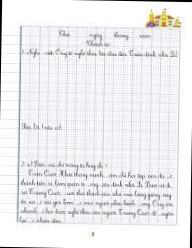text: (20, 46, 178, 62), (20, 204, 176, 220), (18, 176, 172, 191), (17, 187, 174, 201), (27, 167, 174, 181), (19, 198, 175, 211), (19, 158, 109, 172), (18, 215, 62, 224), (20, 121, 63, 130), (112, 30, 130, 42), (85, 39, 110, 47), (88, 32, 103, 40), (57, 28, 70, 37), (138, 33, 152, 38), (90, 230, 95, 238)
